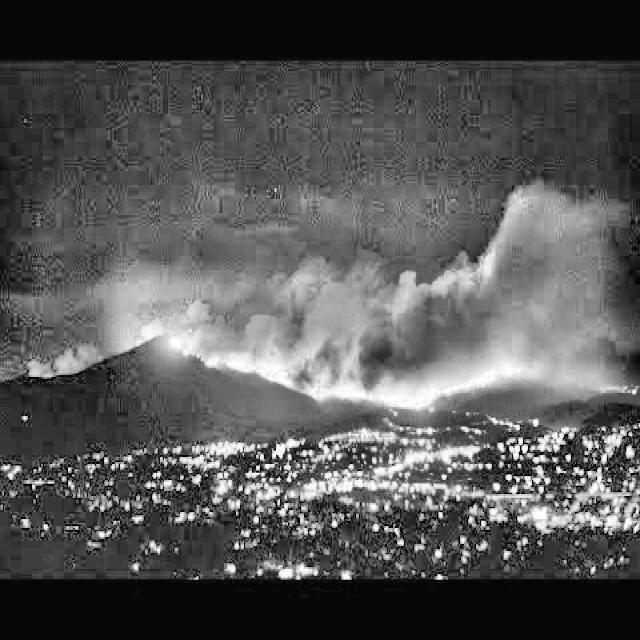fire: (59, 125, 623, 494)
